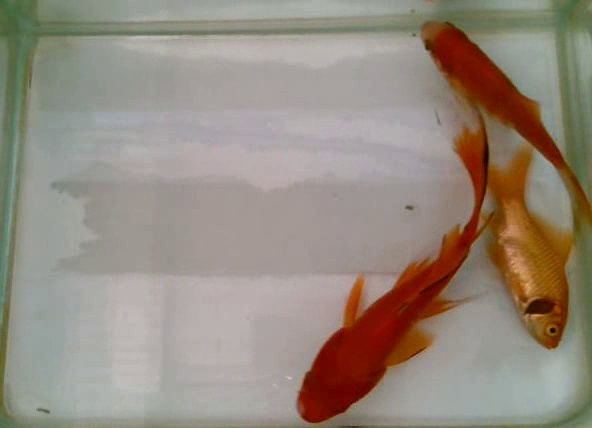alive_fish: (279, 92, 496, 424), (416, 15, 592, 232)
dead_fish: (475, 138, 583, 355)
